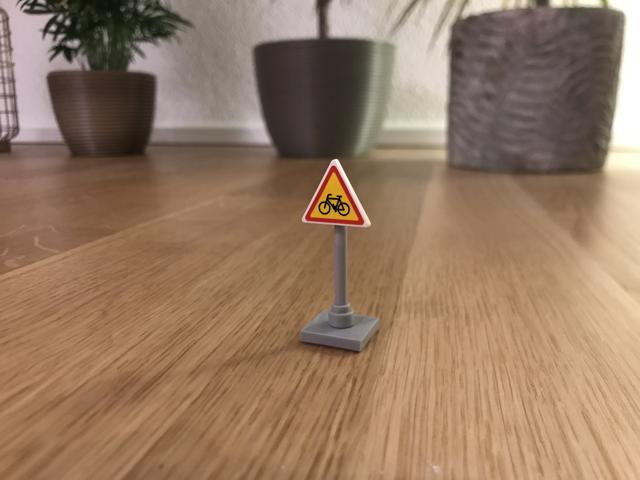radfahrer: (301, 159, 374, 229)
